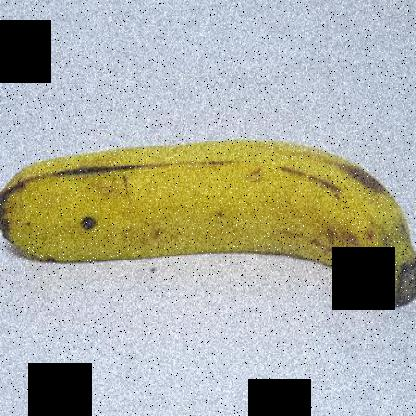ripe: (0, 118, 415, 318)
